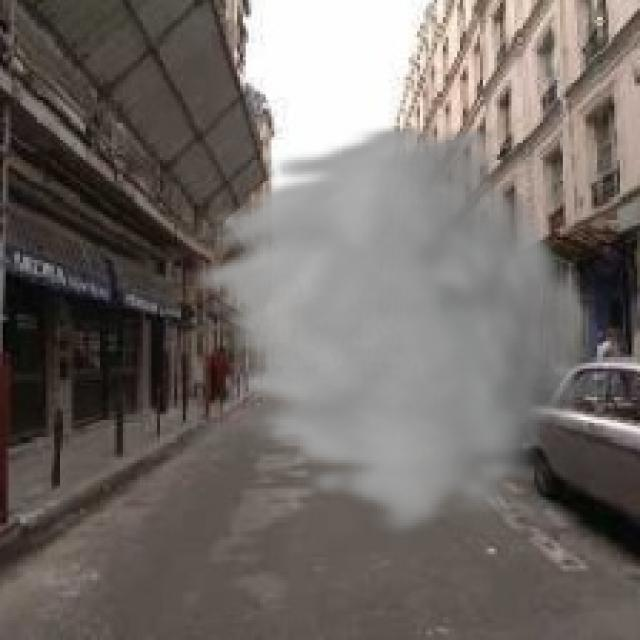Smoke: (174, 120, 597, 540)
